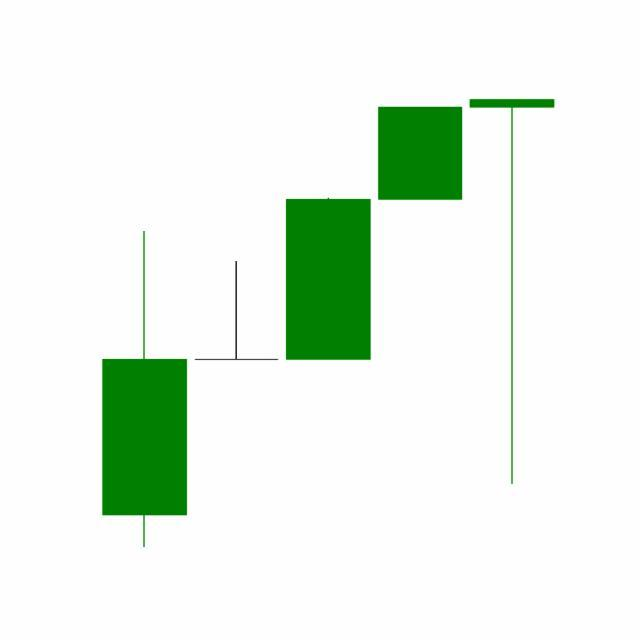Hanging Man: (466, 95, 559, 489)
